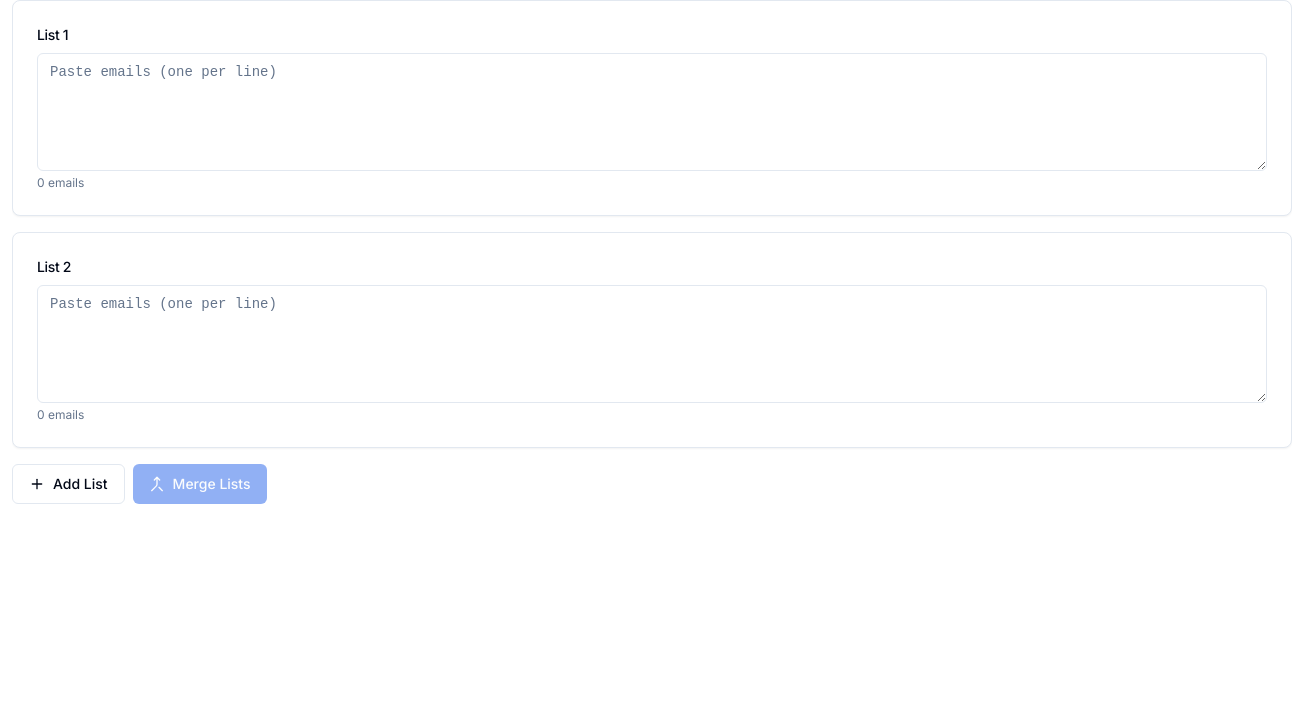
Test: ListMerger › enables merge button when emails are entered
This screenshot has width=1292, height=720.
In the 1st text box with placeholder "Paste emails (one per line)": (652, 112) [37,53,1267,171], type "a@test.com"
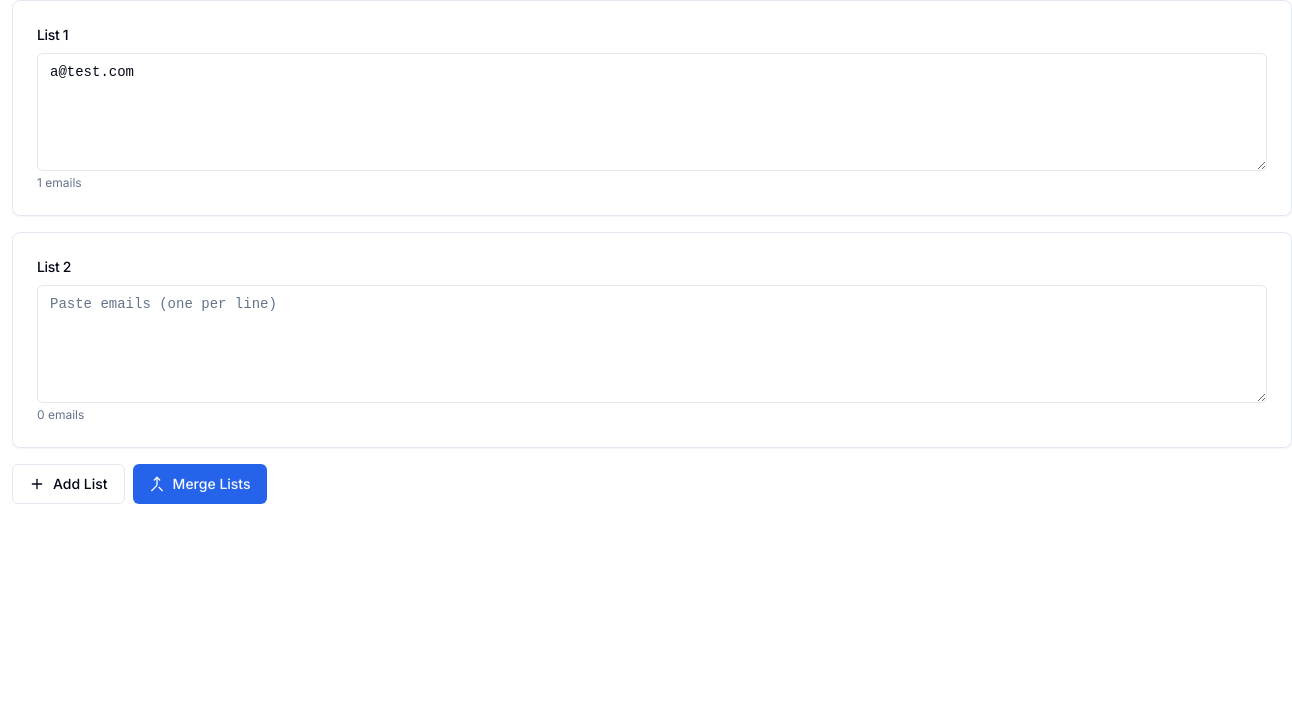
Check: the button "Merge Lists" is enabled, box [133,464,267,504]
